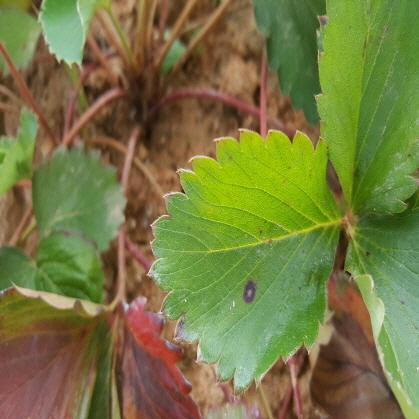Leaf Spot: (144, 126, 344, 397), (314, 0, 418, 224), (344, 188, 418, 418)
